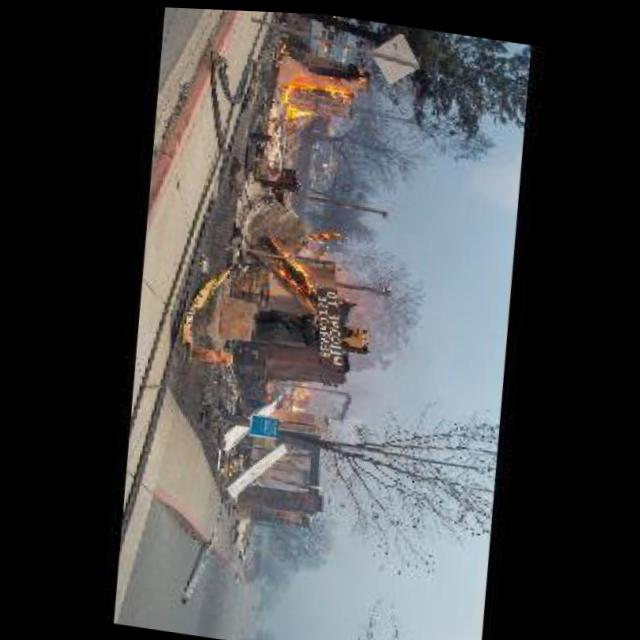Fire: (265, 56, 371, 131), (254, 224, 334, 310)
